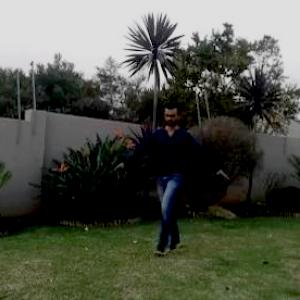land: (116, 101, 226, 240)
